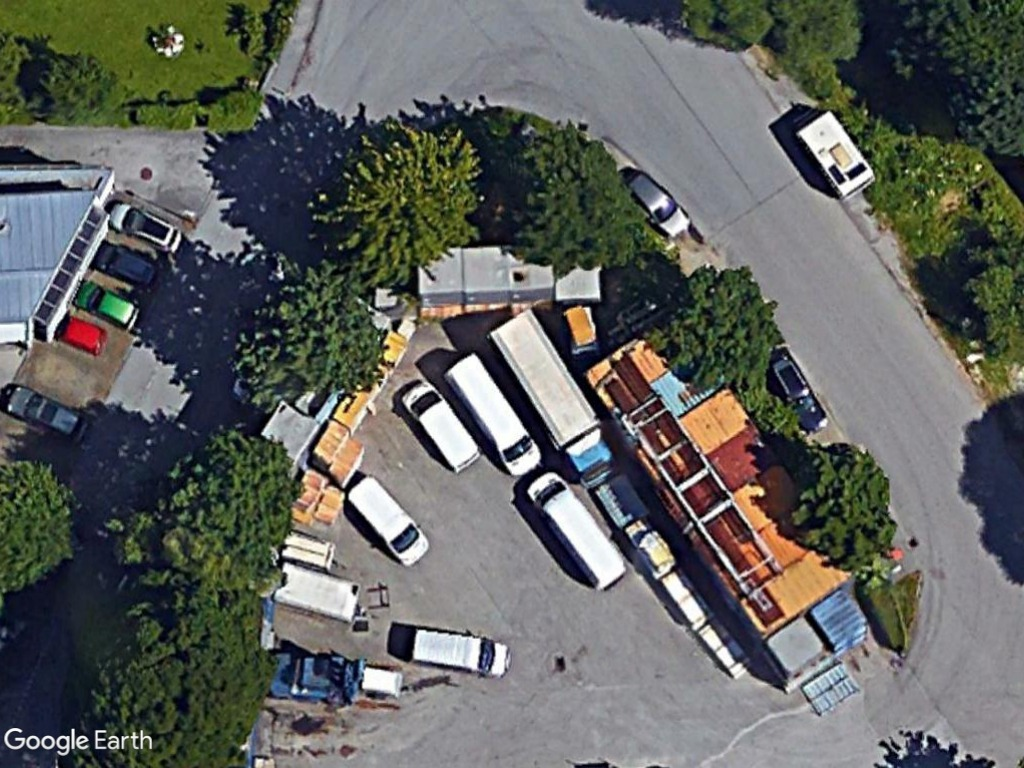car: (1, 379, 94, 448), (620, 166, 695, 242), (103, 195, 185, 258), (71, 277, 143, 334)
truck: (480, 308, 620, 490)
van: (520, 467, 631, 597), (441, 348, 546, 478), (343, 470, 432, 572), (397, 375, 483, 477), (403, 623, 512, 681)
